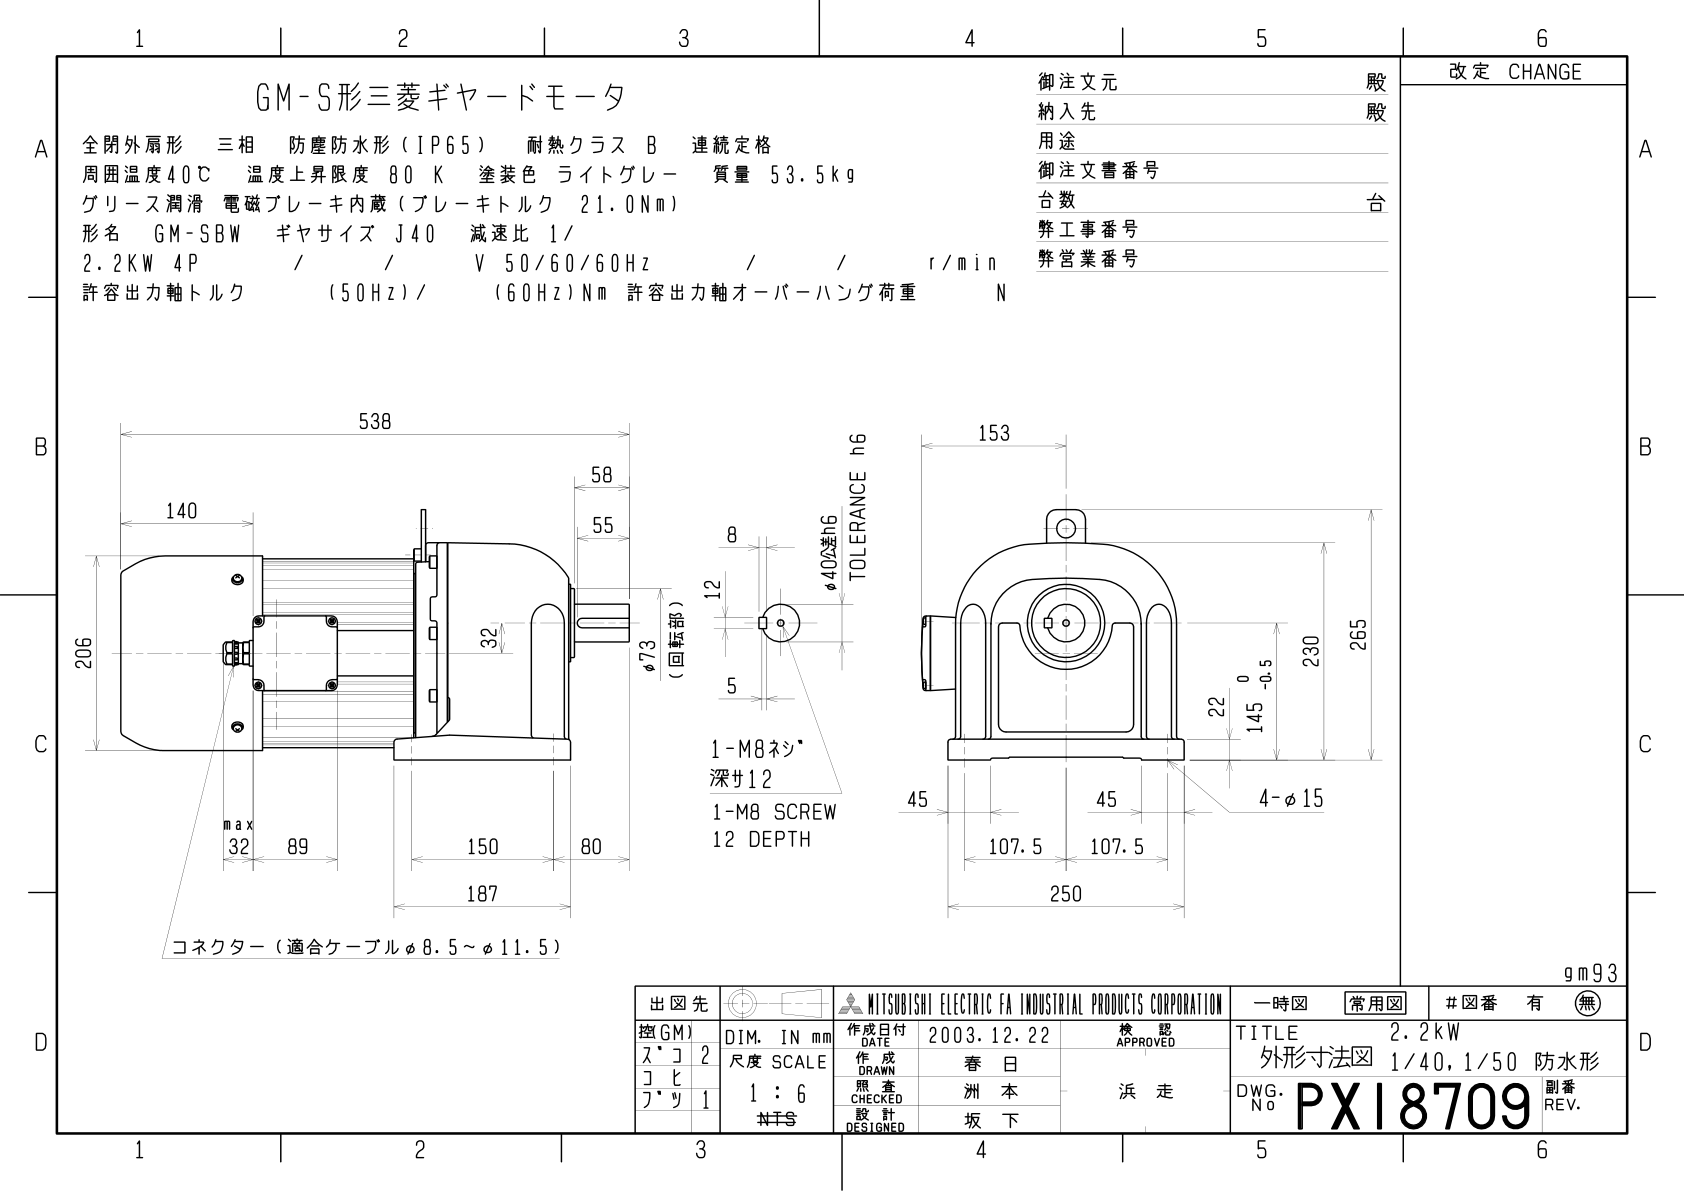GM_S_IP65＿三相_脚: (1, 1, 1671, 1172)
